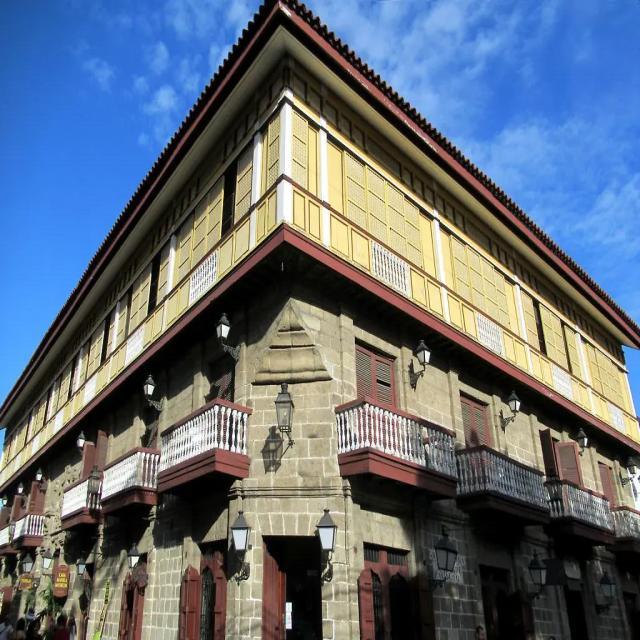Casa Manila: (0, 0, 640, 640)
